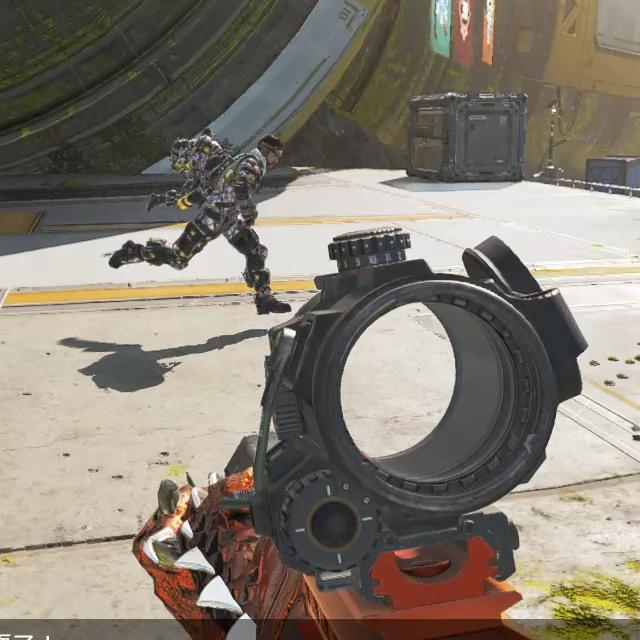avatar: (172, 132, 293, 318)
